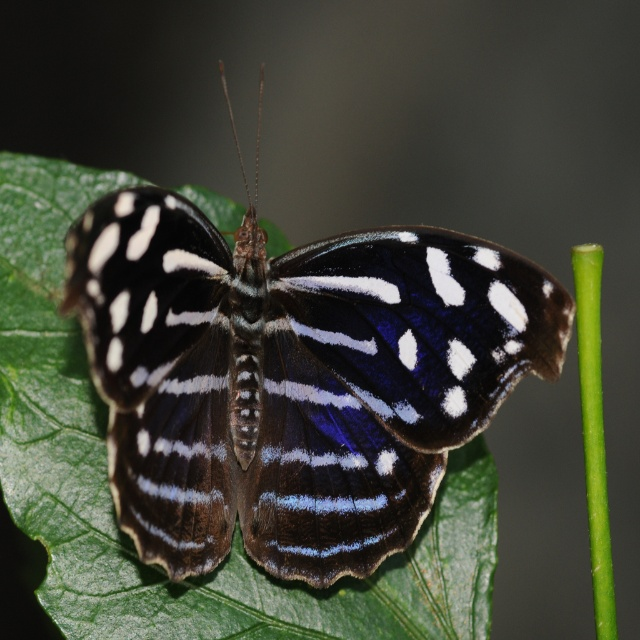Butterfly: (79, 43, 570, 615)
